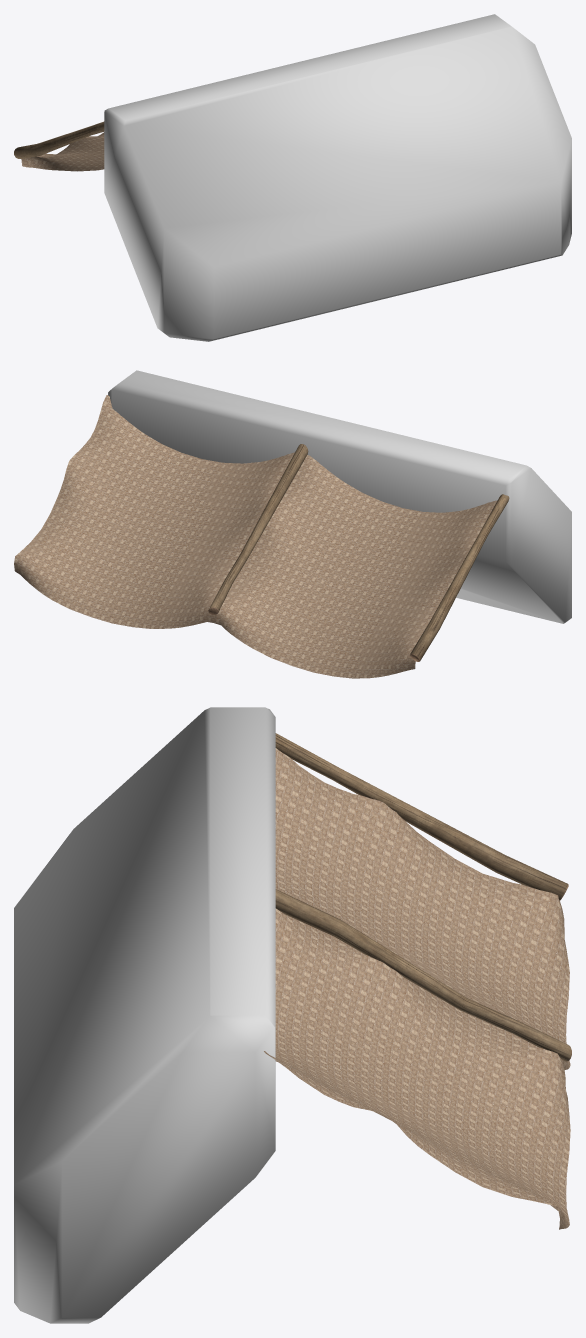
File: SM_Canopy_A.fbx
3 views of the same model, one above another, from view 1: azimuth 30°, elevation 25°; view 2: azimuth 150°, elevation 25°; view 3: azimuth 270°, elevation 25° (orthographic). The views are drawn at different scales.
Visible parts, largest first — view 1: SM_Canopy_A_ConvexHulls, SM_Canopy_A; view 2: SM_Canopy_A, SM_Canopy_A_ConvexHulls; view 3: SM_Canopy_A_ConvexHulls, SM_Canopy_A.
Part boxes in pixels (<box>): SM_Canopy_A_ConvexHulls: <box>104,14,571,341</box>; SM_Canopy_A: <box>14,121,104,171</box>; SM_Canopy_A: <box>14,395,509,678</box>; SM_Canopy_A_ConvexHulls: <box>108,370,571,623</box>; SM_Canopy_A_ConvexHulls: <box>14,707,275,1323</box>; SM_Canopy_A: <box>264,733,571,1229</box>.
Size of the model in its own units: 3.04 by 1.33 by 2.22.
